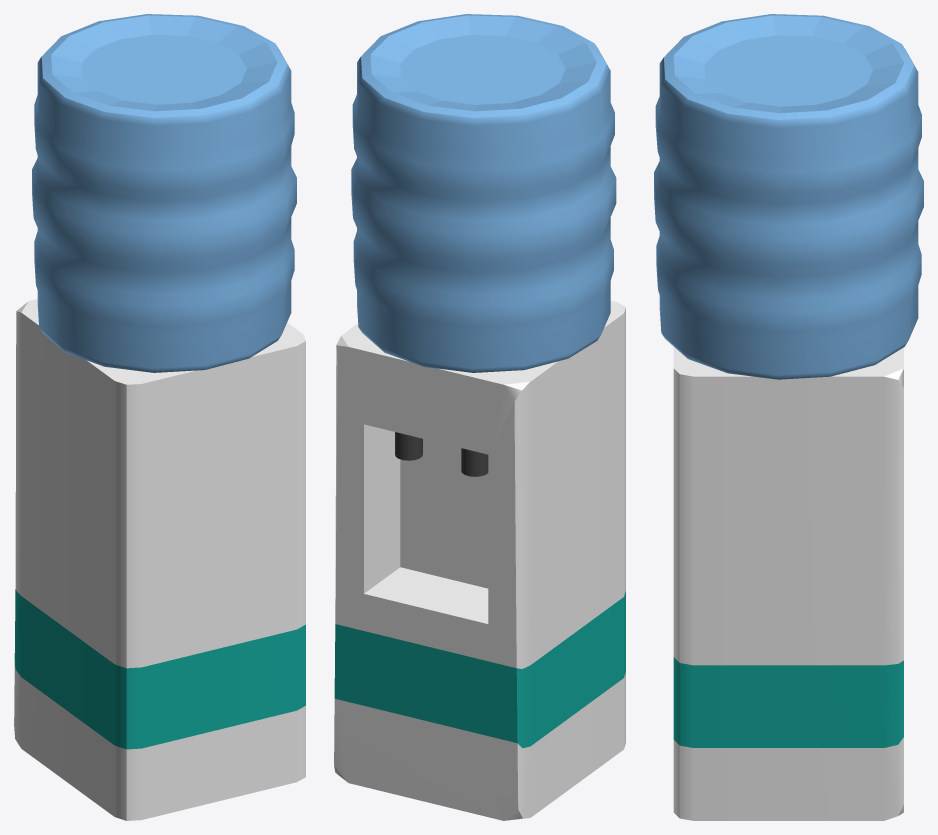
File: Watercooler.fbx
3 renders of one model, left to right at view 1: azimuth 30°, elevation 25°; view 2: azimuth 150°, elevation 25°; view 3: azimuth 270°, elevation 25°, orthographic.
Visible parts, largest first — view 1: polySurface1; view 2: polySurface1; view 3: polySurface1.
Boxes of the visible parts, x1,y1,x2,y2 form: polySurface1: (14, 14, 305, 820); polySurface1: (334, 14, 625, 820); polySurface1: (654, 14, 923, 820).
Size of the model in its own units: 2.92 by 8.44 by 2.91.
1 material, 1 textured.
